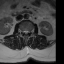CCS_normal: (25, 29, 27, 36)
LFS_normal: (29, 29, 31, 34)
LLS_stenosis: (27, 29, 29, 35)
RFS_stenosis: (21, 29, 23, 34)
RLS_stenosis: (23, 29, 25, 35)
